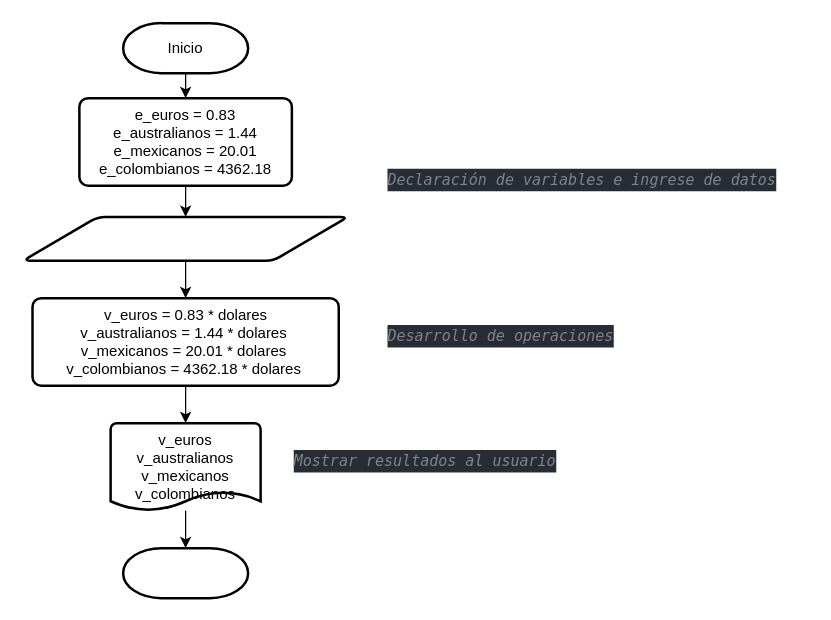
Image size: 831x620. Some labels were removed from this diagram. The box of each missing label's shape, as (x1, y1, x2, y2) in pixels:
dolares: (21, 215, 349, 261)
Fin: (121, 546, 249, 599)
